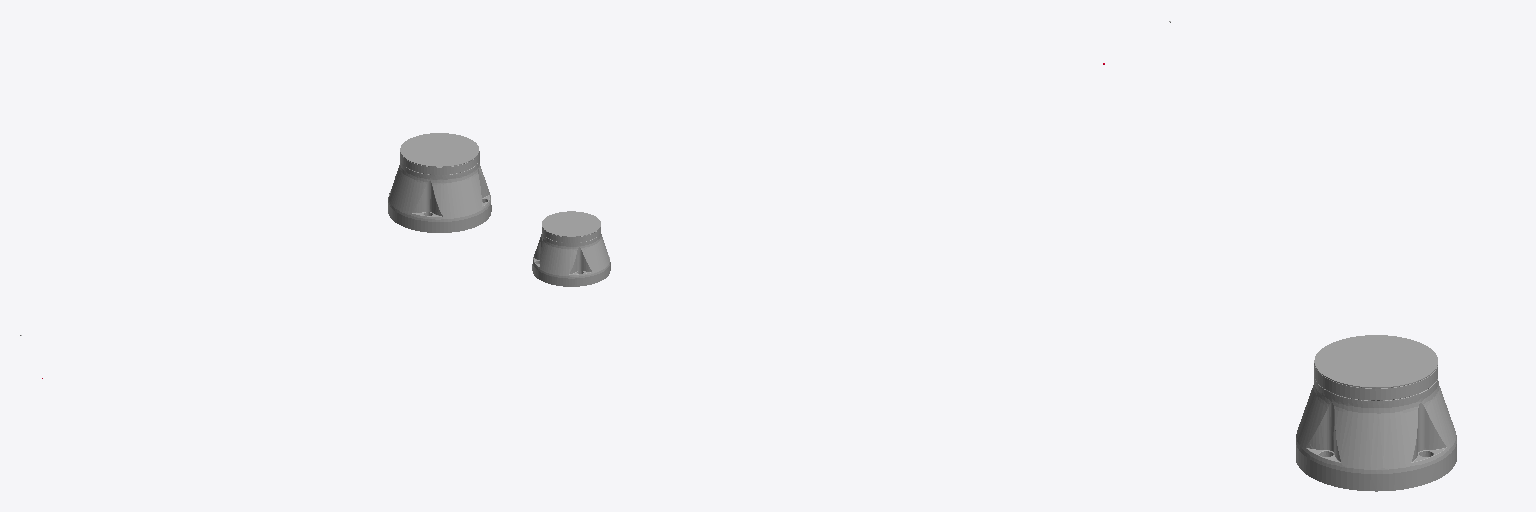
The robot description file, URDF, robot "universal_robot":
<?xml version="1.0"?>
<!--FOR GRIPPER, THERE IS NO LINK INERTIA DEFINED HERE-->
<robot name="universal_robot">

  <!-- Colors -->
  <material name="DarkGrey">
    <color rgba="0.2 0.2 0.2 1.0"/>
  </material>
  <material name="Grey">
    <color rgba="0.4 0.4 0.4 1.0"/>
  </material>
  <material name="Orange">
    <color rgba="1.0 0.423529411765 0.0392156862745 1.0"/>
  </material>
  <material name="Blue">
    <color rgba="0 0.1 1.0 1.0"/>
  </material>
  <material name="LightGrey">
    <color rgba="0.7 0.7 0.7 1.0"/>
  </material>
  <material name="Red">
    <color rgba="0.9 0 0.2 1.0"/>
  </material>
  <material name="TransparentRed">
    <color rgba="0.9 0 0.2 0.5"/>
  </material>
  <material name="Green">
    <color rgba="0 0.9 0.5 1.0"/>
  </material>
  <material name="Yellow">
    <color rgba="0.7 0.7 0 1.0"/>
  </material>
  <material name="LightBlue">
    <color rgba="0. 0.3 1.0 1.0"/>
  </material>
  <material name="Black">
    <color rgba="0.05 0.05 0.05 1.0"/>
  </material>
  <material name="White">
    <color rgba="1.0 1.0 1.0 1.0" />
  </material>



    <!-- connect arm to world -->
      <link name="world"/>
      <joint name="world_joint" type="fixed">
        <parent link="world"/>
        <child link="base_link"/>
        <origin rpy="0.0 0.0 -3.14" xyz="0.0 0.0 0.0"/>
      </joint>


      <link name="base_link">
        <visual>
          <geometry>
            <mesh filename="visual/base.obj"/>
          </geometry>
          <material name="LightGrey"/>
        </visual>
        <collision>
          <geometry>
            <mesh filename="collision/base.stl"/>
          </geometry>
        </collision>
        <inertial>
          <mass value="4.0"/>
          <origin rpy="0 0 0" xyz="0.0 0.0 0.0"/>
          <inertia ixx="0.00443333156" ixy="0.0" ixz="0.0" iyy="0.00443333156" iyz="0.0" izz="0.0072"/>
        </inertial>
      </link>

      <joint name="base_joint" type="revolute">
        <parent link="base_link"/>
        <child link="shoulder_link"/>
        <origin rpy="0.0 0.0 0.0" xyz="0.0 0.0 0.163"/>
        <axis xyz="0 0 1"/>
        <limit effort="150.0" lower="-100" upper="100" velocity="3.15"/>
        <dynamics damping="0.5" friction="0.0"/>
      </joint>

      <link name="shoulder_link">
        <visual>
          <geometry>
            <mesh filename="visual/shoulder.obj"/>
          </geometry>
          <material name="DarkGrey"/>
        </visual>
        <collision>
          <geometry>
            <mesh filename="collision/shoulder.stl"/>
          </geometry>
        </collision>
        <inertial>
          <mass value="3.7"/>
          <origin rpy="0 0 0" xyz="0.0 0.0 0.0"/>
          <inertia ixx="0.010267495893" ixy="0.0" ixz="0.0" iyy="0.010267495893" iyz="0.0" izz="0.00666"/>
        </inertial>
      </link>

      <joint name="shoulder_joint" type="revolute">
        <parent link="shoulder_link"/>
        <child link="upper_arm_link"/>
        <origin rpy="0.0 1.57079632679 0.0" xyz="0.0 0.13585 0.0"/>
        <axis xyz="0 1 0"/>
        <limit effort="150.0" lower="-100" upper="100" velocity="3.15"/>
        <dynamics damping="0.5" friction="0.0"/>
      </joint>

      <link name="upper_arm_link">
        <visual>
          <geometry>
            <mesh filename="visual/upperarm.obj"/>
          </geometry>
          <material name="LightGrey"/>
        </visual>
        <collision>
          <geometry>
            <mesh filename="collision/upperarm.stl"/>
          </geometry>
        </collision>
        <inertial>
          <mass value="8.393"/>
          <origin rpy="0 0 0" xyz="0.0 0.0 0.28"/>
          <inertia ixx="0.22689067591" ixy="0.0" ixz="0.0" iyy="0.22689067591" iyz="0.0" izz="0.0151074"/>
        </inertial>
      </link>

      <joint name="elbow_joint" type="revolute">
        <parent link="upper_arm_link"/>
        <child link="forearm_link"/>
        <origin rpy="0.0 0.0 0.0" xyz="0.0 -0.1197 0.425"/>
        <axis xyz="0 1 0"/>
        <limit effort="150.0" lower="-100" upper="100" velocity="3.15"/>
        <dynamics damping="0.5" friction="0.0"/>
      </joint>

      <link name="forearm_link">
        <visual>
          <geometry>
            <mesh filename="visual/forearm.obj"/>
          </geometry>
          <material name="DarkGrey"/>
        </visual>
        <collision>
          <geometry>
            <mesh filename="collision/forearm.stl"/>
          </geometry>
        </collision>
        <inertial>
          <mass value="2.275"/>
          <origin rpy="0 0 0" xyz="0.0 0.0 0.25"/>
          <inertia ixx="0.049443313556" ixy="0.0" ixz="0.0" iyy="0.049443313556" iyz="0.0" izz="0.004095"/>
        </inertial>
      </link>

      <joint name="wrist_1_joint" type="revolute">
        <parent link="forearm_link"/>
        <child link="wrist_1_link"/>
        <origin rpy="0.0 1.57079632679 0.0" xyz="0.0 0.0 0.39225"/>
        <axis xyz="0 1 0"/>
        <limit effort="28.0" lower="-100" upper="100" velocity="3.2"/>
        <dynamics damping="0.5" friction="0.0"/>
      </joint>

      <link name="wrist_1_link">
        <visual>
          <geometry>
            <mesh filename="visual/wrist1.obj"/>
          </geometry>
          <material name="LightGrey"/>
        </visual>
        <collision>
          <geometry>
            <mesh filename="collision/wrist1.stl"/>
          </geometry>
        </collision>
        <inertial>
          <mass value="1.219"/>
          <origin rpy="0 0 0" xyz="0.0 0.0 0.0"/>
          <inertia ixx="0.111172755531" ixy="0.0" ixz="0.0" iyy="0.111172755531" iyz="0.0" izz="0.21942"/>
        </inertial>
      </link>

      <joint name="wrist_2_joint" type="revolute">
        <parent link="wrist_1_link"/>
        <child link="wrist_2_link"/>
        <origin rpy="0.0 0.0 0.0" xyz="0.0 0.093 0.0"/>
        <axis xyz="0 0 1"/>
        <limit effort="28.0" lower="-100" upper="100" velocity="3.2"/>
        <dynamics damping="0.5" friction="0.0"/>
      </joint>

      <link name="wrist_2_link">
        <visual>
          <geometry>
            <mesh filename="visual/wrist2.obj"/>
          </geometry>
          <material name="DarkGrey"/>
        </visual>
        <collision>
          <geometry>
            <mesh filename="collision/wrist2.stl"/>
          </geometry>
        </collision>
        <inertial>
          <mass value="1.219"/>
          <origin rpy="0 0 0" xyz="0.0 0.0 0.0"/>
          <inertia ixx="0.111172755531" ixy="0.0" ixz="0.0" iyy="0.111172755531" iyz="0.0" izz="0.21942"/>
        </inertial>
      </link>

      <joint name="wrist_3_joint" type="revolute">
        <parent link="wrist_2_link"/>
        <child link="wrist_3_link"/>
        <origin rpy="0.0 0.0 0.0" xyz="0.0 0.0 0.09465"/>
        <axis xyz="0 1 0"/>
        <limit effort="28.0" lower="-100" upper="100" velocity="3.2"/>
        <dynamics damping="0.5" friction="0.0"/>
      </joint>

      <link name="wrist_3_link">
        <visual>
          <geometry>
            <mesh filename="visual/wrist3.obj"/>
          </geometry>
           <material name="whitish">
            <color rgba="0.8 0.8 0.8 1.0"/>
          </material>
        </visual>
        <collision>
          <geometry>
            <mesh filename="collision/wrist3.stl"/>
          </geometry>
        </collision>
        <inertial>
          <mass value="0.1879"/>
          <origin rpy="0 0 0" xyz="0.0 0.0 0.0"/>
          <inertia ixx="0.0171364731454" ixy="0.0" ixz="0.0" iyy="0.0171364731454" iyz="0.0" izz="0.033822"/>
        </inertial>
      </link>

      <!-- End Effector -->

      <joint name="ee_joint" type="fixed">
        <parent link="wrist_3_link"/>
        <child link="ee_link"/>
        <origin rpy="1.57 3.14 0.0" xyz="0.0 0.0823 0.0"/>
      </joint>

      <link name="ee_link">
        <visual>
          <origin rpy="0 0 0" xyz="0 0 0"/>
          <geometry>
            <sphere radius="0.001"/>
          </geometry>
           <material name="whitish">
            <color rgba="0.8 0.8 0.8 1.0"/>
          </material>
        </visual>
        <collision>
          <geometry>
            <sphere radius="0.001"/>
          </geometry>
          <origin rpy="0 0 0" xyz="0.0 0 0"/>
        </collision>
        <inertial>
          <mass value="0.0"/>
          <origin rpy="-3.14 0.0 1.57" xyz="0.0 0.0 0.0"/>
          <inertia ixx="0.001" ixy="0.0" ixz="0.0" iyy="0.001" iyz="0.0" izz="0.001"/>
        </inertial>
      </link>

      <!-- digit -->


      <link name="tactip_adapter_link">
        <inertial>
          <origin rpy="0 0 0" xyz="0 0 0"/>
           <mass value="0.1"/>
           <inertia ixx="0.001" ixy="0" ixz="0" iyy="0.001" iyz="0" izz="0.001"/>
        </inertial>
        <visual>
          <origin rpy="0 0 0" xyz="0 0 0"/>
          <geometry>
    				<mesh filename="../tactip/right_angle_tactip/adapter/right_angle_adapter.obj" scale="1.0 1.0 1.0"/>
          </geometry>
           <material name="Black">
            <color rgba="0.05 0.05 0.05 1.0"/>
          </material>
        </visual>
        <collision>
          <origin rpy="0 0 0" xyz="0 0 0"/>
          <geometry>
    				<mesh filename="../tactip/right_angle_tactip/adapter/right_angle_adapter.obj" scale="1.0 1.0 1.0"/>
          </geometry>
        </collision>
      </link>

      <joint name="digit_ee_joint" type="fixed">
        <parent link="ee_link"/>
        <child link="tactip_adapter_link"/>
        <origin rpy="-1.57 -1.57 0" xyz="0.0 -0.005 -0.04"/>
      </joint>

  <link
    name="digit_body_link">
    <inertial>
      <origin
        xyz="0.00443338071044421 -0.0140914049333968 4.96453152977634E-09+0.02"
        rpy="0 0 0" />
      <mass
        value="0.0077837104153161" />
      <inertia
        ixx="7.77176839696665E-07"
        ixy="-5.52554519832781E-09"
        ixz="-2.21347841658254E-13"
        iyy="1.5788930001559E-06"
        iyz="-8.96409493368731E-14"
        izz="1.05613167218354E-06" />
    </inertial>
    <visual>
      <origin
        xyz="0 0 0.02"
        rpy="0 0 0" />
      <geometry>
        <mesh
          filename="../digit/standard_digit/digit_asmb/meshes/digit_body.STL" />
      </geometry>
      <material
        name="digit_body">
        <color
          rgba="0.0 0.0 0.0 1" />
      </material>
    </visual>
    <collision>
      <origin
        xyz="0 0 0.02"
        rpy="0 0 0" />
      <geometry>
        <mesh
          filename="../digit/standard_digit/digit_asmb/meshes/digit_body.STL" />
      </geometry>
    </collision>
  </link>


      <joint name="digitac_body_to_adapter" type="fixed">
         <!-- <origin rpy="0 3.14 3.14" xyz="0 0 -0.014"/> -->
         <origin rpy="0 3.14 3.14" xyz="-0.0225 0 -0.014"/>
         <parent link="tactip_adapter_link"/>
         <child link="digit_body_link"/>
      </joint>


  <link
    name="digit_tip_link">
    <inertial>
      <origin
        xyz="-2.15568578500849E-07 0.00554133274527847 -0.00576051345741577-0.02"
        rpy="0 0 0" />
      <mass
        value="0.00130411151086353" />
      <inertia
        ixx="5.48284140746448E-08"
        ixy="-4.02703926962539E-12"
        ixz="-5.29135712007007E-14"
        iyy="3.03790231207661E-08"
        iyz="-1.56642204167579E-10"
        izz="8.26200689636922E-08" />
    </inertial>
    <visual>
      <origin
        xyz="0 0 -0.02"
        rpy="0 0 0" />
      <geometry>
        <mesh
          filename="../digit/standard_digit/digit_asmb_hollow/meshes/digit_core.STL" scale="1.0 1.0 1.0"/>
      </geometry>
      <material
        name="digit_skin">
        <color
          rgba="1.0 1.0 1.0 1" />
      </material>
    </visual>
    <collision>
      <origin
        xyz="0 0 -0.02"
        rpy="0 0 0" />
      <geometry>
        <mesh
          filename="../digit/standard_digit/digit_asmb/meshes/digit_core.STL" />
      </geometry>
    </collision>
  </link>

  <joint
    name="digit_tip_to_body"
    type="fixed">
    <origin
      xyz="-0.00151521951809463 -1.36251105150219E-05 -0.00415"
      rpy="-3.14159265358979 0 1.5707963267949" />
    <parent
      link="digit_body_link" />
    <child
      link="digit_tip_link" />
    <axis
      xyz="0 0 0" />
  </joint>

  
      <!-- TCP -->
      <link name="tcp_link">
        <visual>
          <origin rpy="0 0 0" xyz="0 0 0"/>
          <geometry>
            <sphere radius="0.001"/>
          </geometry>
           <material name="TransparentRed"/>
        </visual>
        <inertial>
          <mass value="0.0"/>
          <origin rpy="0.0 0.0 1.57" xyz="0.0 0.0 0.0"/>
          <inertia ixx="1.0" ixy="0.0" ixz="0.0" iyy="1.0" iyz="0.0" izz="1.0"/>
        </inertial>
      </link>

      <joint name="tcp_joint" type="fixed">
        <parent link="digit_body_link"/>
        <child link="tcp_link"/>
        <origin rpy="1.57 0 -1.57" xyz="0.0007 0.0 0.025"/>
      </joint>

</robot>

--- Facts derived from the render (not from the file) ---
The picture shows the robot from 3 angles, left to right: view 1: azimuth 30°, elevation 25°; view 2: azimuth 150°, elevation 25°; view 3: azimuth 270°, elevation 25°; orthographic projection.
Model universal_robot with 13 links and 12 joints (6 revolute, 6 fixed), rooted at world, posed every joint at zero.
Links seen in each view (by area): view 1: base_link; view 2: base_link; view 3: base_link.
Link boxes in pixels (bbox=[...]): base_link: bbox=[388, 133, 491, 232]; base_link: bbox=[532, 211, 610, 286]; base_link: bbox=[1296, 335, 1456, 491].
Bounding box of the posed robot: 0.8934 × 0.3311 × 0.0991 m (x, y, z).
Meshes: 10 distinct files referenced, 1 mesh visuals loaded (1 OBJ); not drawn: 9 (reference not matched to a file when rendering).